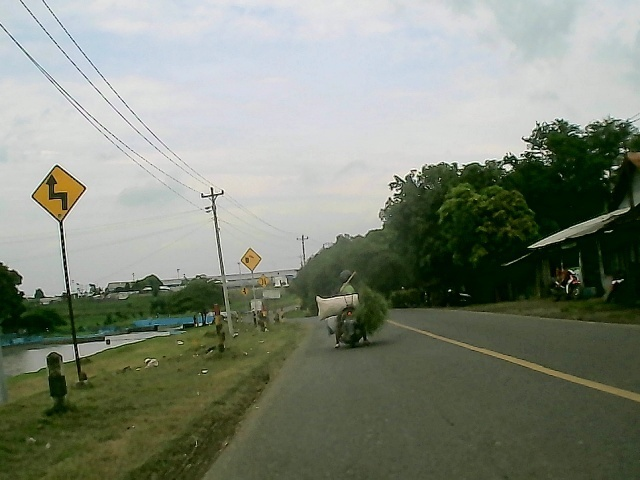Jembatan: (257, 276, 271, 289)
Peringatan tepi air: (240, 247, 261, 272)
Tikungan garda pertama kiri: (27, 161, 92, 225)
